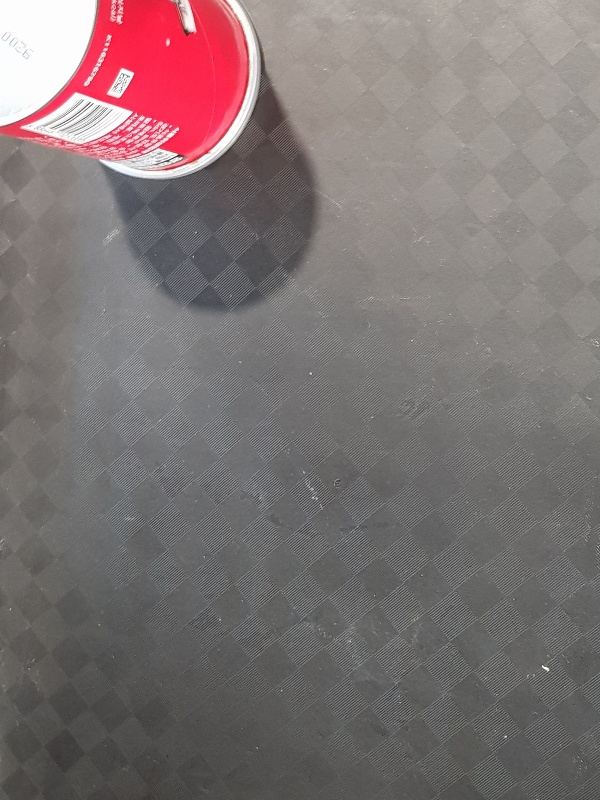Pringles Original: (1, 1, 264, 182)
